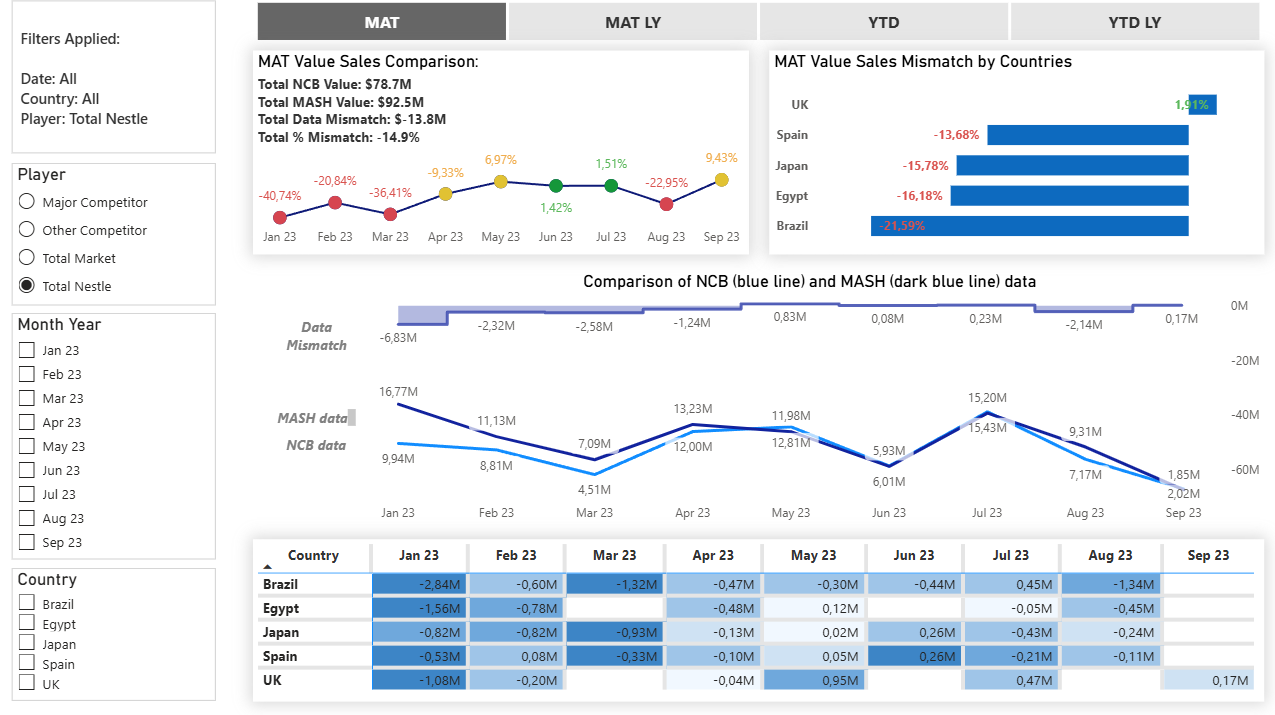

The page's visual inventory and layout, read from the dashboard file:
{"tool":"powerbi","page":{"name":"Data Comparison Report","canvas":[1280,720],"ordinal":0},"visuals":[{"type":"advancedSlicerVisual","fields":{"Values":["Slicer Periods.Period"]},"box":[255,0,1012,47],"z":0},{"type":"listSlicer","fields":{"Values":["DimCountries.Country"]},"box":[13.6,570,203.6,132.7],"z":1000},{"type":"listSlicer","fields":{"Values":["DimPlayers.Player"]},"box":[13.6,165.5,203.6,142.7],"z":2000},{"type":"listSlicer","fields":{"Values":["Calendar.Month Year"]},"box":[13.6,315.5,203.6,246.4],"z":3000},{"type":"lineChart","title":"MAT Value Sales Comparison:","fields":{"Category":["Calendar.Month Year"],"Y":["_Key Measures.% Diff","_Key Measures.Marker Red","_Key Measures.Marker Yellow","_Key Measures.Marker Green"]},"box":[255,53,496,204],"z":4000},{"type":"clusteredBarChart","title":"MAT Value Sales Mismatch by Countries","fields":{"Category":["DimCountries.Country"],"Y":["_Key Measures.% Diff"]},"box":[771,53,495,204],"z":5000},{"type":"lineClusteredColumnComboChart","fields":{"Category":["Calendar.Month Year"],"Y2":["_Key Measures.Dynamic NCB Sales","_Key Measures.Dynamic MASH Sales"]},"box":[356,374,874,159],"z":6000},{"type":"lineChart","title":"Comparison of NCB (blue line) and MASH (dark blue line) data","fields":{"Category":["Calendar.Month Year"],"Y2":["_Key Measures.Abs Diff"]},"box":[356,273,911,213],"z":7000},{"type":"textbox","box":[266,315,105,45],"z":8000},{"type":"textbox","box":[274,406,89,27],"z":9000},{"type":"textbox","box":[274,433,89,28],"z":10000},{"type":"pivotTable","fields":{"Rows":["DimCountries.Country"],"Columns":["Calendar.Month Year"],"Values":["_Key Measures.Abs Diff"]},"box":[255,541,1011,162],"z":11000},{"type":"cardVisual","fields":{"Data":["_Key Measures.Selected Filters Info"]},"box":[13.6,2.7,203.6,152.7],"z":12000}]}

Visuals, with their boxes in screenshot pixels (x1, y1, x2, y2), scaled from the page's 1280x720 canvas onto the 1275x715 screenshot:
advancedSlicerVisual - Slicer Periods.Period: bbox=[254, 0, 1262, 47]
listSlicer - DimCountries.Country: bbox=[14, 566, 216, 698]
listSlicer - DimPlayers.Player: bbox=[14, 164, 216, 306]
listSlicer - Calendar.Month Year: bbox=[14, 313, 216, 558]
"MAT Value Sales Comparison:" lineChart: bbox=[254, 53, 748, 255]
"MAT Value Sales Mismatch by Countries" clusteredBarChart: bbox=[768, 53, 1261, 255]
lineClusteredColumnComboChart - Calendar.Month Year x _Key Measures.Dynamic NCB Sales: bbox=[355, 371, 1225, 529]
"Comparison of NCB (blue line) and MASH (dark blue line) data" lineChart: bbox=[355, 271, 1262, 483]
textbox: bbox=[265, 313, 370, 358]
textbox: bbox=[273, 403, 362, 430]
textbox: bbox=[273, 430, 362, 458]
pivotTable - DimCountries.Country x Calendar.Month Year: bbox=[254, 537, 1261, 698]
cardVisual - _Key Measures.Selected Filters Info: bbox=[14, 3, 216, 154]
